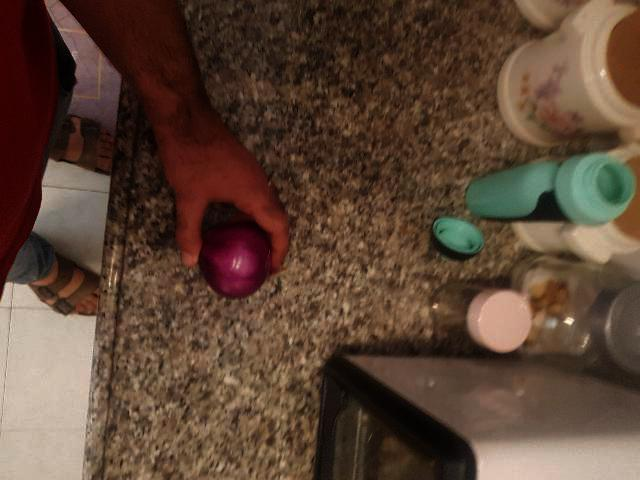onion: (387, 368, 454, 451)
